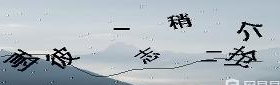chinese: (229, 44, 260, 71), (8, 48, 40, 73), (44, 46, 75, 69), (236, 17, 265, 40), (169, 11, 195, 31), (136, 46, 161, 66)
